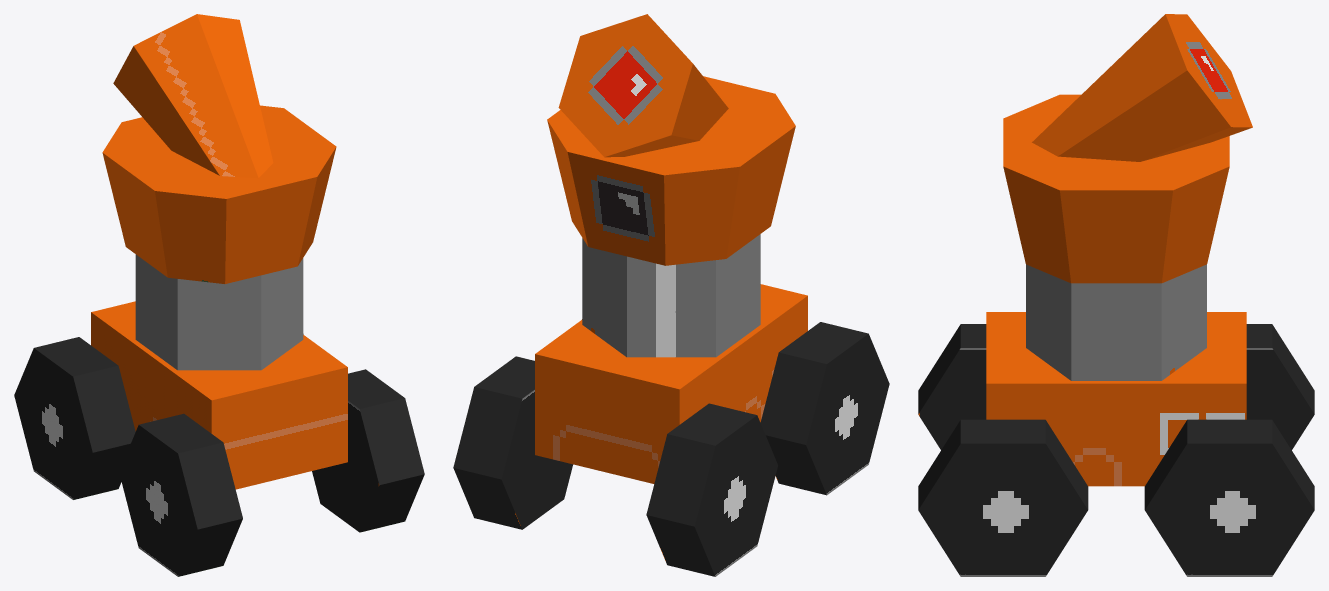
Rendered from smal_robot.glb.
3 views of the same model, side by side, from view 1: azimuth 30°, elevation 25°; view 2: azimuth 150°, elevation 25°; view 3: azimuth 270°, elevation 25° (orthographic). The views are drawn at different scales.
Parts seen in each view (by area): view 1: Cube, Cube.001, Cylinder, Cylinder.001, Cylinder.004, Cylinder.005, Cylinder.002; view 2: Cube, Cube.001, Cylinder.001, Cylinder.005, Cylinder.004, Cylinder, Cylinder.003; view 3: Cube, Cube.001, Cylinder.002, Cylinder.003, Cylinder, Cylinder.001, Cylinder.004, Cylinder.005.
Boxes of the visible parts, x1,y1,x2,y2 form: Cube: (102,105,336,283); Cube.001: (91,301,347,489); Cylinder: (113,14,273,178); Cylinder.001: (135,254,303,370); Cylinder.004: (119,413,242,576); Cylinder.005: (14,337,135,499); Cylinder.002: (312,369,424,532); Cube: (547,76,795,265); Cube.001: (535,284,807,483); Cylinder.001: (582,234,760,357); Cylinder.005: (646,403,777,576); Cylinder.004: (760,322,889,495); Cylinder: (558,14,728,157); Cylinder.003: (453,356,573,529); Cube: (1003,94,1229,283); Cube.001: (986,312,1246,486); Cylinder.002: (918,419,1088,576); Cylinder.003: (1144,419,1314,576); Cylinder: (1032,14,1252,161); Cylinder.001: (1026,264,1206,380); Cylinder.004: (918,324,986,449); Cylinder.005: (1246,324,1314,449).
Bounding box in the file's own units: 5 × 9.8 × 7.
1 material, 1 textured.
